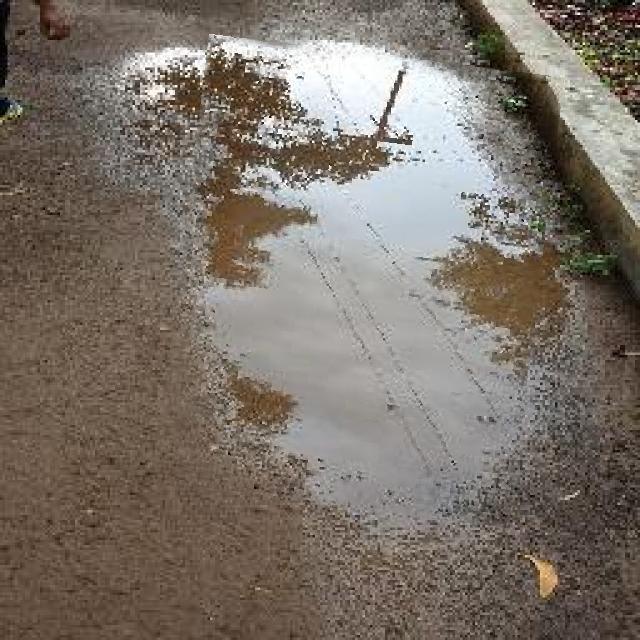puddle: (168, 45, 552, 519)
